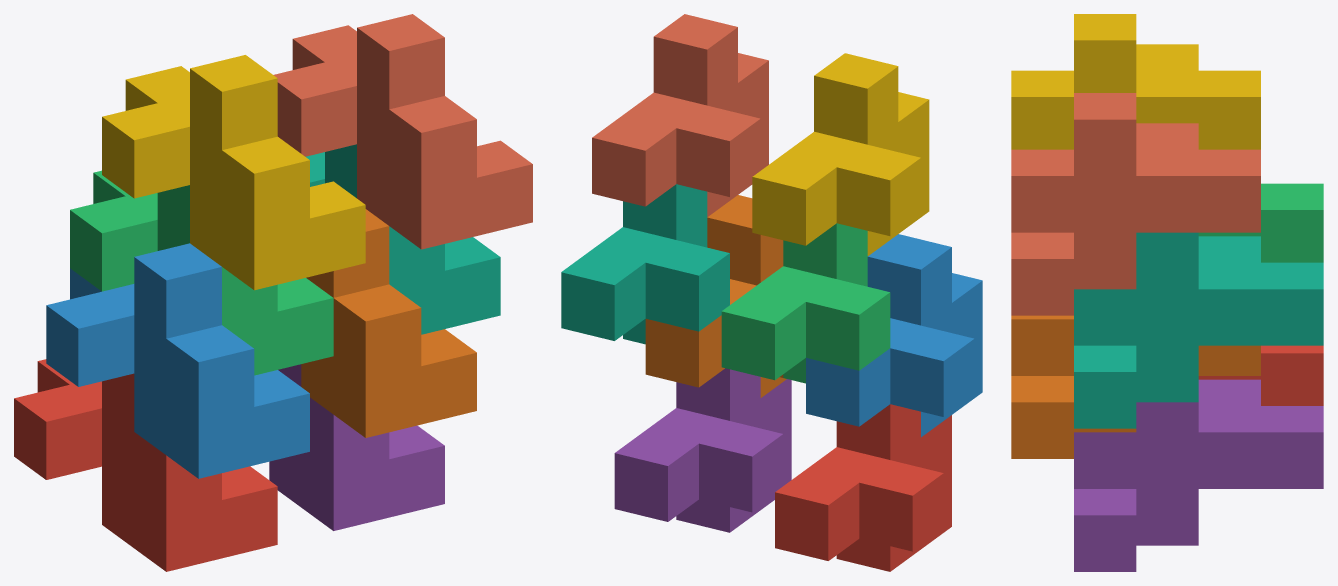
Rendered from tiling.obj.
The picture shows the model from 3 angles, left to right: view 1: azimuth 30°, elevation 25°; view 2: azimuth 150°, elevation 25°; view 3: azimuth 270°, elevation 25°; orthographic projection. The views are drawn at different scales.
Parts seen in each view (by area): view 1: copy_1_domain_4, copy_1_domain_8, copy_1_domain_2, copy_1_domain_1, copy_1_domain_6, copy_1_domain_3, copy_1_domain_5, copy_1_domain_7; view 2: copy_1_domain_4, copy_1_domain_8, copy_1_domain_1, copy_1_domain_5, copy_1_domain_2, copy_1_domain_3, copy_1_domain_7, copy_1_domain_6; view 3: copy_1_domain_8, copy_1_domain_7, copy_1_domain_5, copy_1_domain_4, copy_1_domain_6, copy_1_domain_3, copy_1_domain_1.
Part boxes in pixels (left/top/right/bottom): copy_1_domain_4: left=102, top=55, right=365, bottom=290; copy_1_domain_8: left=273, top=14, right=532, bottom=249; copy_1_domain_2: left=46, top=243, right=309, bottom=478; copy_1_domain_1: left=14, top=359, right=277, bottom=571; copy_1_domain_6: left=301, top=209, right=476, bottom=437; copy_1_domain_3: left=70, top=170, right=333, bottom=375; copy_1_domain_5: left=269, top=364, right=444, bottom=530; copy_1_domain_7: left=305, top=144, right=500, bottom=334; copy_1_domain_4: left=752, top=53, right=929, bottom=255; copy_1_domain_8: left=592, top=14, right=768, bottom=216; copy_1_domain_1: left=775, top=404, right=951, bottom=571; copy_1_domain_5: left=614, top=368, right=791, bottom=532; copy_1_domain_2: left=806, top=234, right=982, bottom=437; copy_1_domain_3: left=721, top=223, right=890, bottom=383; copy_1_domain_7: left=561, top=184, right=729, bottom=344; copy_1_domain_6: left=645, top=195, right=786, bottom=397; copy_1_domain_8: left=1011, top=93, right=1260, bottom=315; copy_1_domain_7: left=1074, top=232, right=1323, bottom=428; copy_1_domain_5: left=1074, top=379, right=1323, bottom=571; copy_1_domain_4: left=1011, top=14, right=1260, bottom=149; copy_1_domain_6: left=1011, top=315, right=1260, bottom=458; copy_1_domain_3: left=1198, top=183, right=1323, bottom=262; copy_1_domain_1: left=1198, top=345, right=1323, bottom=405.
Bounding box in the file's own units: 7 × 8 × 5.
